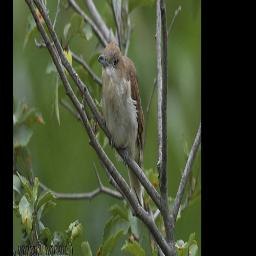Cuckoo: (98, 40, 146, 209)
